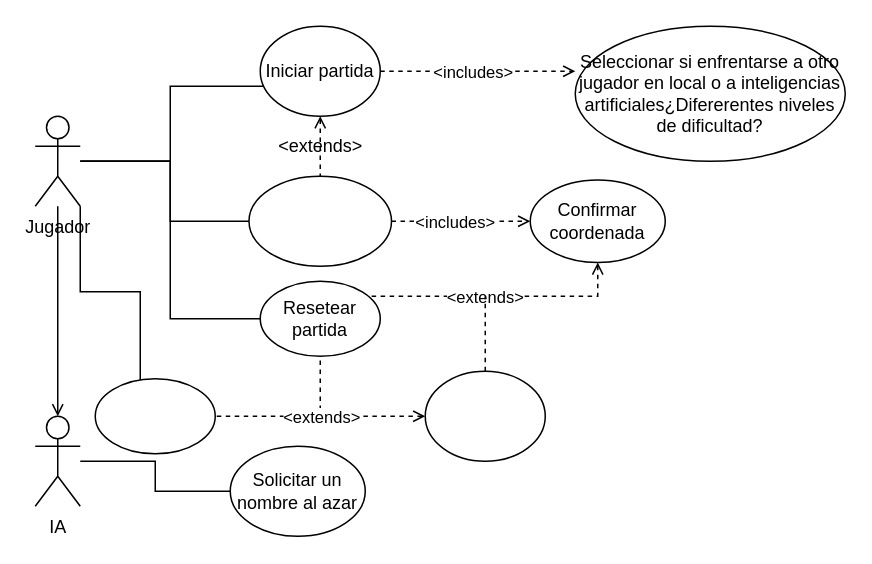
The diagram is 872 pixels wide and 564 high, and some of its shapes have lost their labels. Here are the shapes that lost their labels. From the top down, the centre of each, then its label:
(x=320, y=220): Insertar una coordenada
(x=154, y=415): Finalizar partida
(x=484, y=415): Ganar partida
